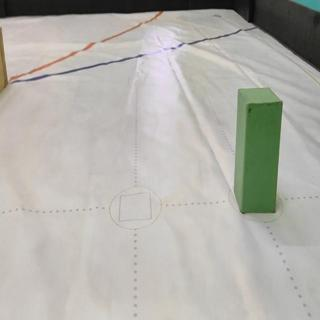greenbox: (235, 85, 284, 215)
